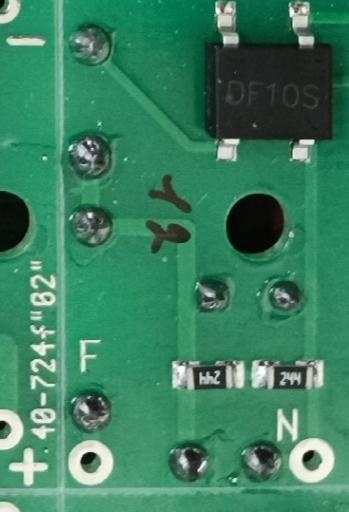chip-resistor: (169, 356, 244, 391), (249, 356, 324, 390)
ic: (201, 0, 337, 165)
